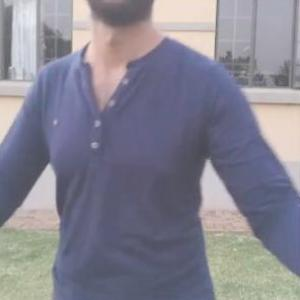land: (1, 1, 298, 299)
